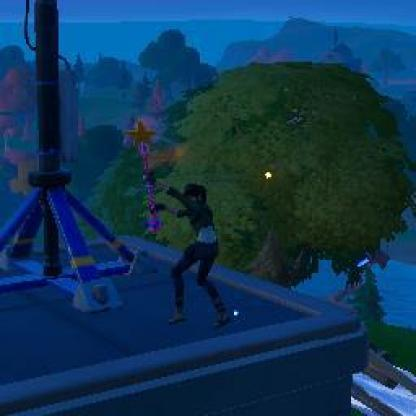Player: (150, 181, 232, 332)
